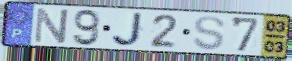2: (150, 14, 179, 49)
7: (229, 16, 261, 53)
9: (72, 8, 101, 47)
J: (110, 12, 146, 48)
N: (32, 6, 71, 45)
S: (191, 15, 227, 52)
